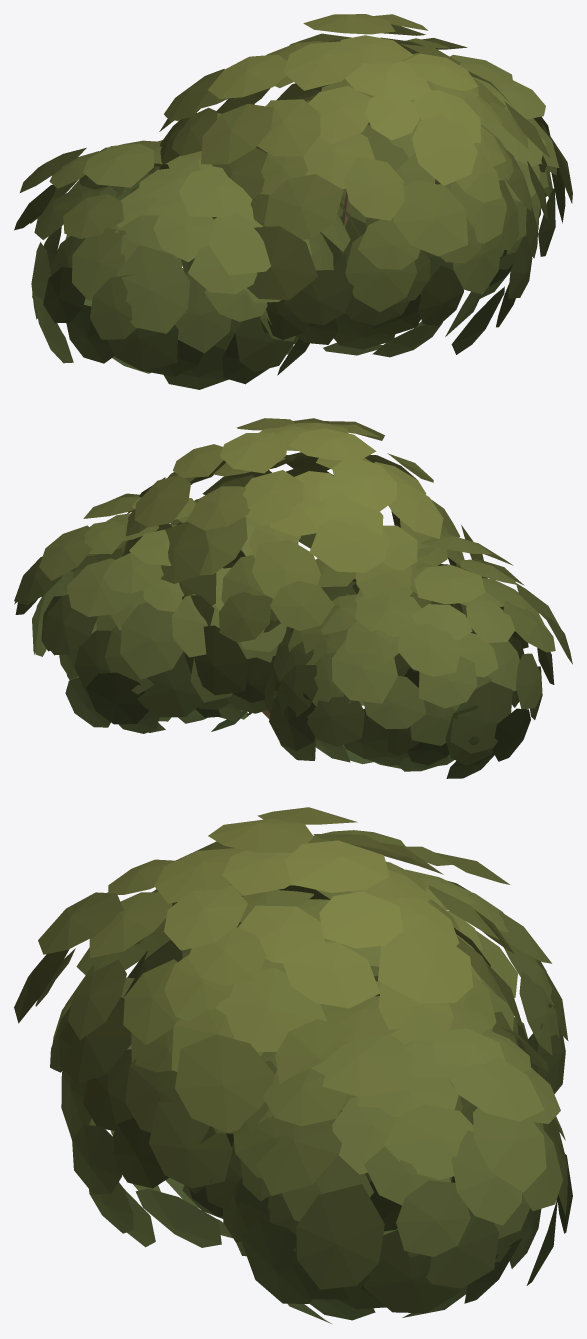
File: dressing-bush-b.glb
The picture shows the model from 3 angles, top to bottom: view 1: azimuth 30°, elevation 25°; view 2: azimuth 150°, elevation 25°; view 3: azimuth 270°, elevation 25°; orthographic projection. The views are drawn at different scales.
Parts seen in each view (by area): view 1: bush-broad-folded-leaves; view 2: bush-broad-folded-leaves; view 3: bush-broad-folded-leaves.
Boxes of the visible parts, box(x1,y1,x2,y2) form: bush-broad-folded-leaves: box(14, 14, 572, 389); bush-broad-folded-leaves: box(14, 418, 572, 778); bush-broad-folded-leaves: box(14, 807, 572, 1324).
Size of the model in its own units: 2.22 by 1.24 by 1.59.
